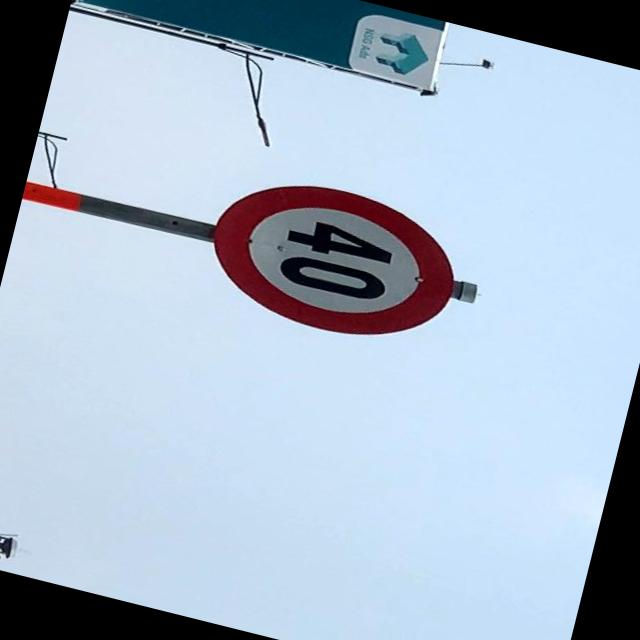P-127: (196, 162, 469, 358)
